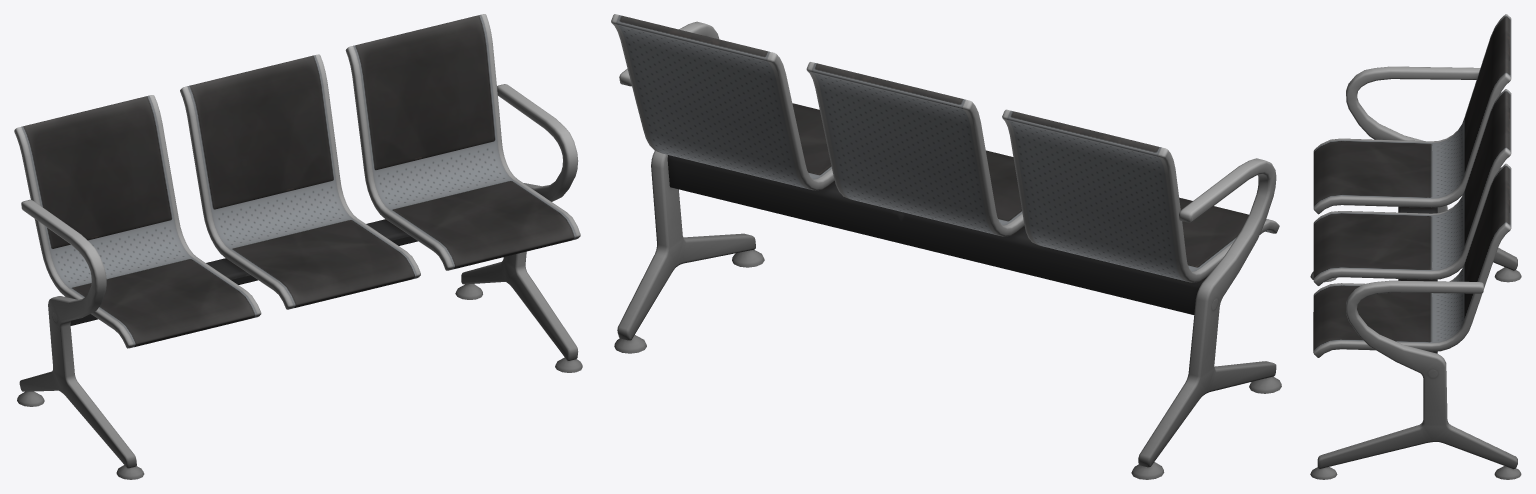
File: OfficeWaitingBench01.FBX
The picture shows the model from 3 angles, left to right: view 1: azimuth 30°, elevation 25°; view 2: azimuth 150°, elevation 25°; view 3: azimuth 270°, elevation 25°; orthographic projection. The views are drawn at different scales.
Visible parts, largest first — view 1: OfficeWaitingBench01; view 2: OfficeWaitingBench01; view 3: OfficeWaitingBench01.
Part boxes in pixels (x1,y1,x2,y2): OfficeWaitingBench01: (14, 14, 582, 479); OfficeWaitingBench01: (611, 14, 1281, 479); OfficeWaitingBench01: (1310, 14, 1521, 479).
Size of what is drawn, in the model's own units: 1.91 by 1.05 by 0.7807.
